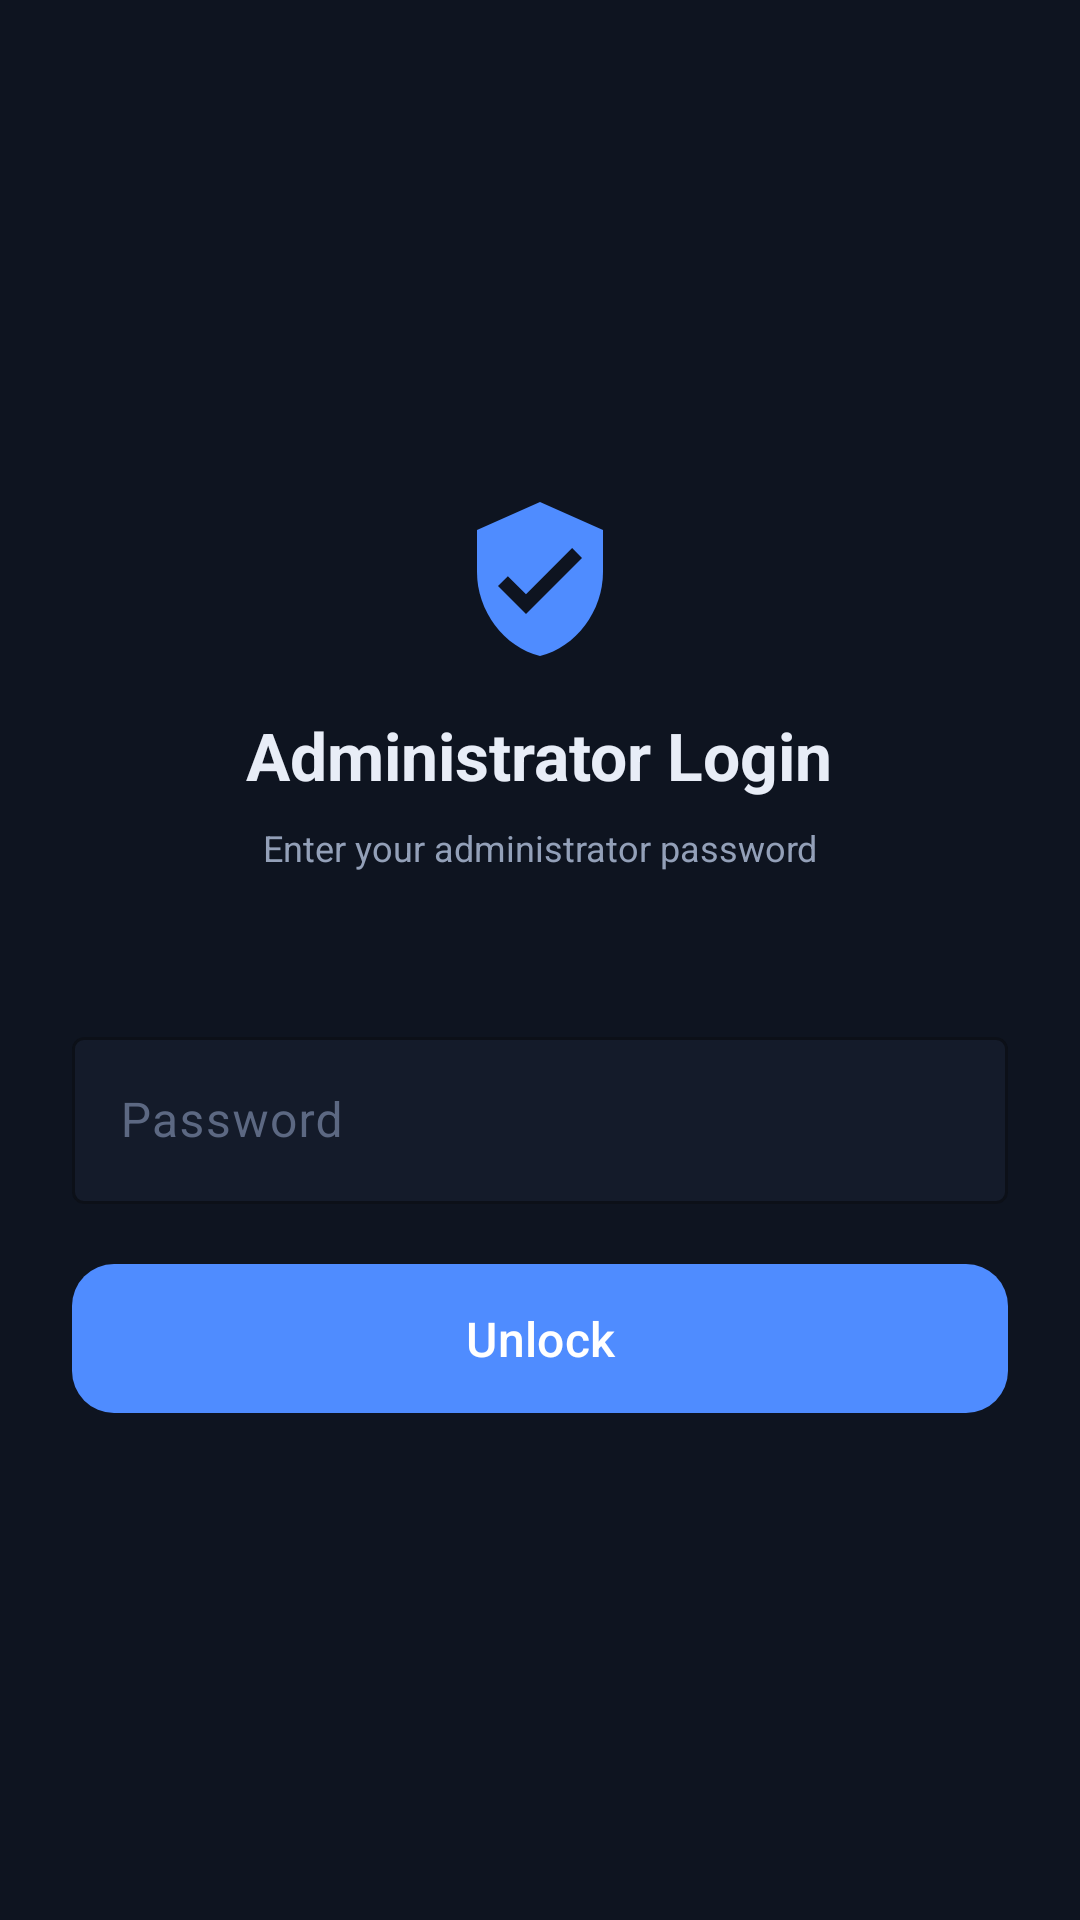

Point at icon controls on the screen. Image size 1080×1920, points as [x,y].
shield: [540,579]
